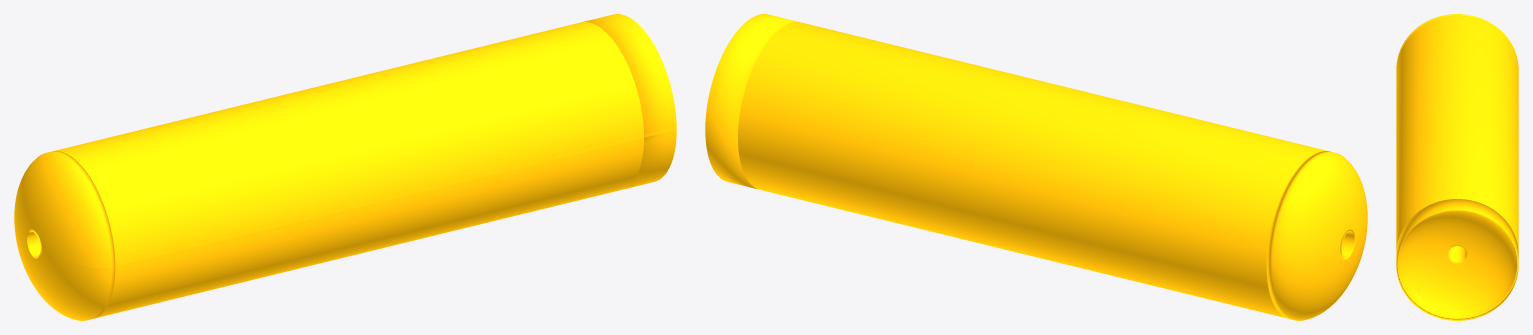
3 renders of one model, left to right at view 1: azimuth 30°, elevation 25°; view 2: azimuth 150°, elevation 25°; view 3: azimuth 270°, elevation 25°, orthographic. The views are drawn at different scales.
Size of the model in its own units: 14.29 by 3.56 by 3.56.
